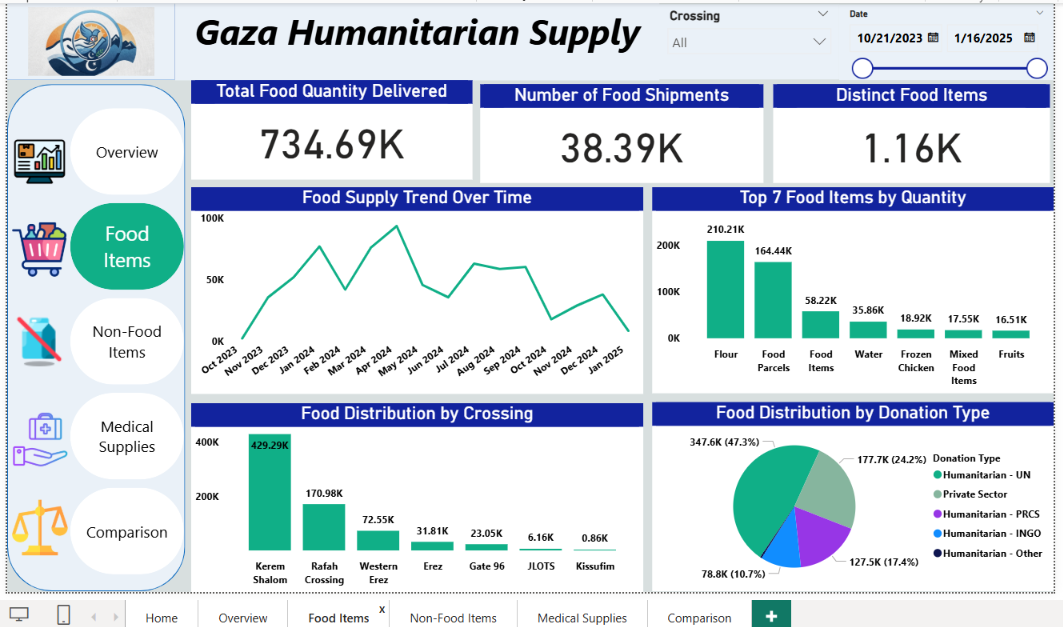

The dashboard page shown, as its layout file describes it:
{"tool":"powerbi","page":{"name":"Food Items","canvas":[1280,720],"ordinal":2},"visuals":[{"type":"shape","box":[0,99,217.7,620],"z":0},{"type":"textbox","box":[205.4,0,591.9,94.2],"z":2000},{"type":"cardVisual","title":"Total Food Quantity Delivered","fields":{"Data":["gold food_analysis.Food Total Qty"]},"box":[225,93.8,343.8,121.2],"z":3000},{"type":"cardVisual","title":"Distinct Food Items","fields":{"Data":["gold food_analysis.Food Items Count"]},"box":[936.7,99,338.7,121.1],"z":4000},{"type":"cardVisual","title":"Number of Food Shipments","fields":{"Data":["gold food_analysis.Food Shipments"]},"box":[578.4,99,346.1,121.1],"z":5000},{"type":"lineChart","title":"Food Supply Trend Over Time","fields":{"Y":["gold food_analysis.Food Total Qty"],"Category":["DateTable.YearMonth"]},"box":[225,225,552.5,252.5],"z":6000},{"type":"columnChart","title":"Top 7 Food Items by Quantity","fields":{"Y":["gold food_analysis.Food Total Qty"],"Category":["gold food_analysis.DescriptionOfCargo"]},"box":[789.2,224.9,491,251.9],"z":7000},{"type":"columnChart","title":"Food Distribution by Crossing","fields":{"Y":["gold food_analysis.Food Total Qty"],"Category":["gold food_analysis.Crossing"]},"box":[225,488.8,552.5,231.2],"z":8000},{"type":"pieChart","title":"Food Distribution by Donation Type","fields":{"Category":["gold food_analysis.DonationType"],"Y":["gold food_analysis.Food Total Qty"]},"box":[789.2,488.5,491,231.4],"z":9000},{"type":"group","id":"g1","title":"Group 1","box":[1,128.8,215.2,574.7],"z":10000},{"type":"shape","box":[0,1.2,205,92.5],"z":11000},{"type":"image","box":[0,0,205,93.8],"z":12000},{"type":"slicer","fields":{"Values":["gold food_analysis.Crossing"]},"box":[797.3,1.3,220,92],"z":13000},{"type":"pageNavigator","box":[76.8,128.8,139.4,574.7],"z":13000,"group":"g1"},{"type":"slicer","title":"Date","fields":{"Values":["DateTable.Date"]},"box":[1017.4,1.2,262.9,92.9],"z":14000},{"type":"image","box":[1,157.6,76.4,71.9],"z":14000,"group":"g1"},{"type":"image","box":[1,257.4,76.4,88],"z":15000,"group":"g1"},{"type":"image","box":[1,368.9,76.4,85.1],"z":16000,"group":"g1"},{"type":"image","box":[2.4,489.3,76.4,89.5],"z":17000,"group":"g1"},{"type":"image","box":[1,599.3,77.8,83.6],"z":18000,"group":"g1"}]}

Visuals, with their boxes on the page's 1280x720 design canvas (x1, y1, x2, y2). These are canvas units, not pixel positions in the 1063x627 screenshot, which may show the page scaled, cropped or inside an application window:
shape: {"x1": 0, "y1": 99, "x2": 218, "y2": 719}
textbox: {"x1": 205, "y1": 0, "x2": 797, "y2": 94}
"Total Food Quantity Delivered" cardVisual: {"x1": 225, "y1": 94, "x2": 569, "y2": 215}
"Distinct Food Items" cardVisual: {"x1": 937, "y1": 99, "x2": 1275, "y2": 220}
"Number of Food Shipments" cardVisual: {"x1": 578, "y1": 99, "x2": 924, "y2": 220}
"Food Supply Trend Over Time" lineChart: {"x1": 225, "y1": 225, "x2": 778, "y2": 478}
"Top 7 Food Items by Quantity" columnChart: {"x1": 789, "y1": 225, "x2": 1280, "y2": 477}
"Food Distribution by Crossing" columnChart: {"x1": 225, "y1": 489, "x2": 778, "y2": 720}
"Food Distribution by Donation Type" pieChart: {"x1": 789, "y1": 488, "x2": 1280, "y2": 720}
"Group 1" group: {"x1": 1, "y1": 129, "x2": 216, "y2": 704}
shape: {"x1": 0, "y1": 1, "x2": 205, "y2": 94}
image: {"x1": 0, "y1": 0, "x2": 205, "y2": 94}
slicer - gold food_analysis.Crossing: {"x1": 797, "y1": 1, "x2": 1017, "y2": 93}
pageNavigator: {"x1": 77, "y1": 129, "x2": 216, "y2": 704}
"Date" slicer: {"x1": 1017, "y1": 1, "x2": 1280, "y2": 94}
image: {"x1": 1, "y1": 158, "x2": 77, "y2": 230}
image: {"x1": 1, "y1": 257, "x2": 77, "y2": 345}
image: {"x1": 1, "y1": 369, "x2": 77, "y2": 454}
image: {"x1": 2, "y1": 489, "x2": 79, "y2": 579}
image: {"x1": 1, "y1": 599, "x2": 79, "y2": 683}
